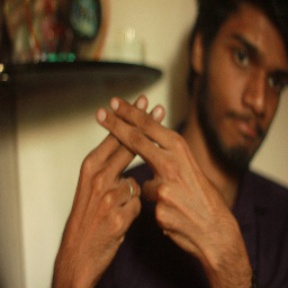F: (66, 79, 213, 203)
